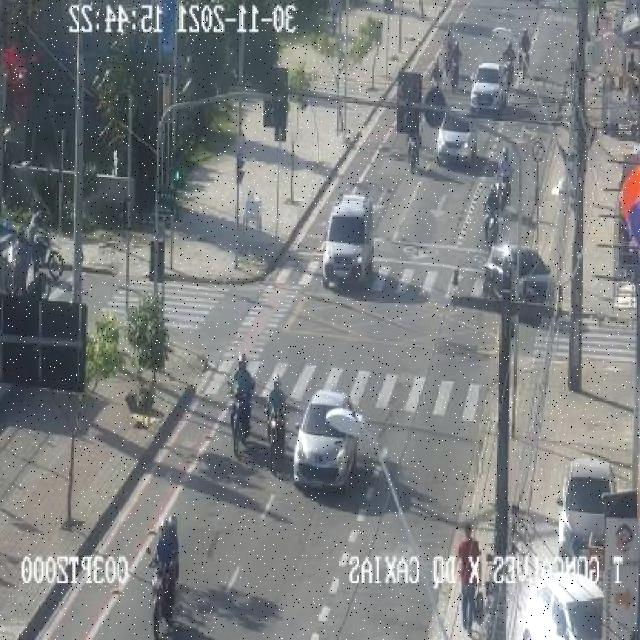car: (292, 392, 357, 490), (482, 247, 562, 316), (321, 192, 374, 292), (438, 106, 477, 168), (468, 63, 507, 112)
motorbike: (557, 460, 617, 562), (522, 572, 604, 640), (148, 512, 181, 636), (5, 225, 52, 302), (228, 354, 255, 458), (24, 212, 66, 276), (459, 524, 481, 636), (265, 373, 287, 475), (482, 184, 501, 252), (498, 148, 514, 206), (503, 38, 517, 92), (448, 41, 462, 94), (519, 26, 532, 76), (431, 58, 444, 90)
